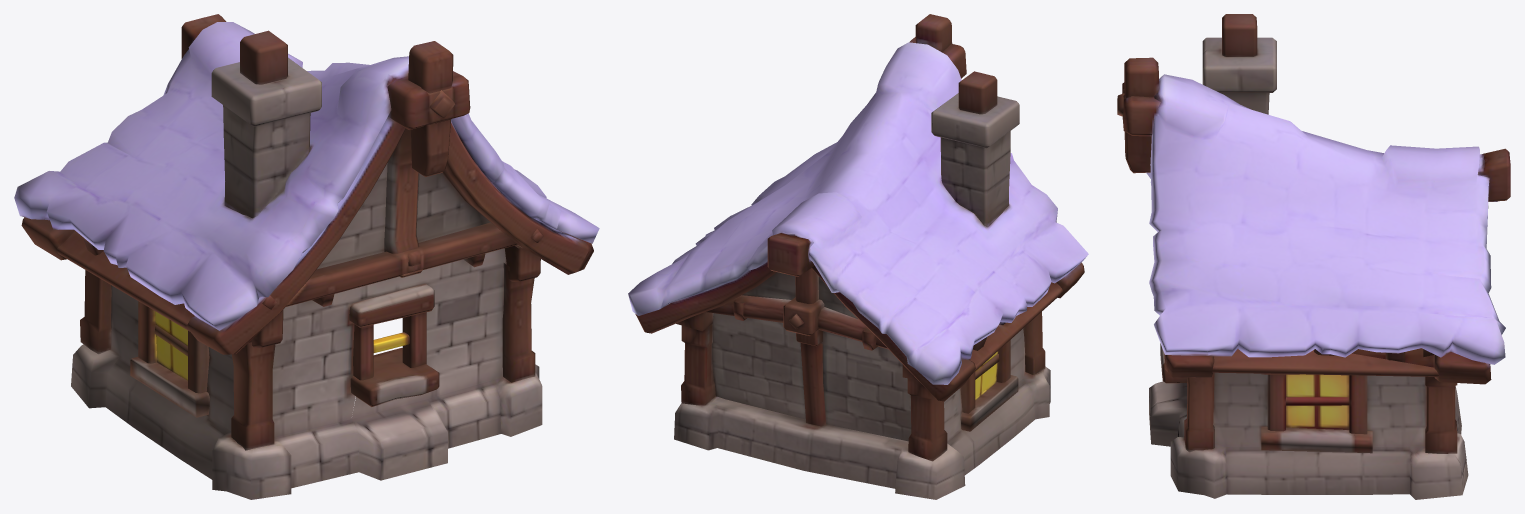
File: candidate-right.glb
3 views of the same model, side by side, from view 1: azimuth 30°, elevation 25°; view 2: azimuth 150°, elevation 25°; view 3: azimuth 270°, elevation 25° (orthographic). The views are drawn at different scales.
Parts seen in each view (by area): view 1: UserCottage_right; view 2: UserCottage_right; view 3: UserCottage_right.
Boxes of the visible parts, <box> form: UserCottage_right: <box>14,14,599,499</box>; UserCottage_right: <box>628,14,1088,499</box>; UserCottage_right: <box>1117,14,1510,499</box>.
Bounding box in the file's own units: 0.3071 × 0.3081 × 0.2949.
Materials: 1 (1 with a texture image).
